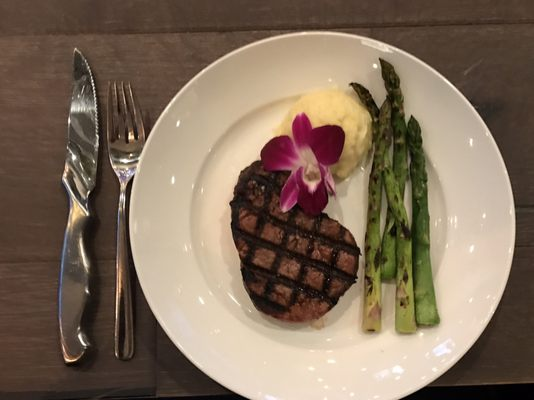burger: (57, 52, 99, 365), (108, 79, 147, 359)
